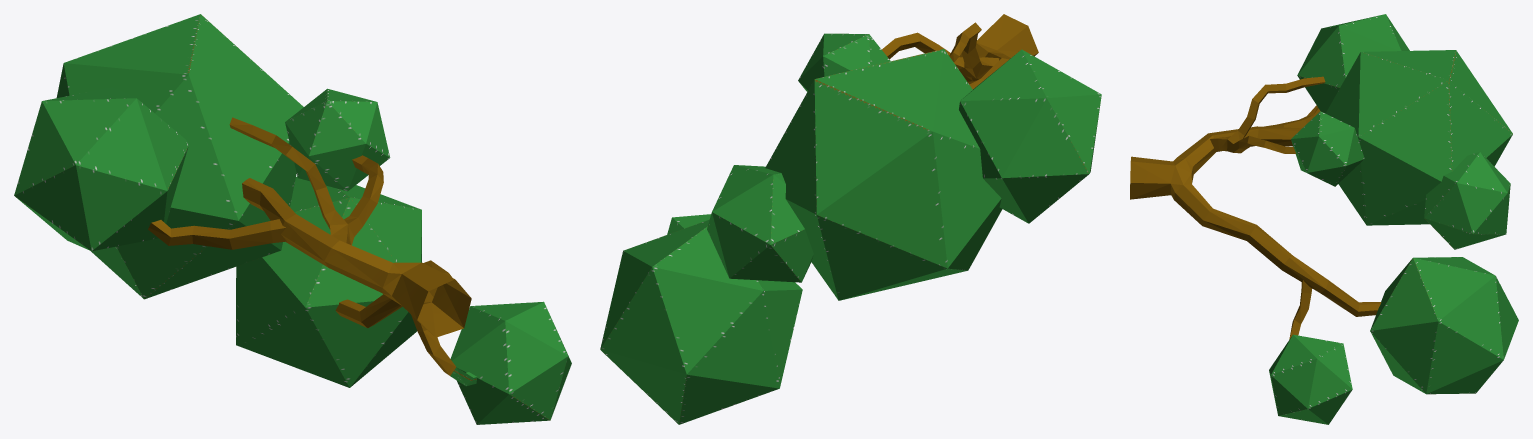
Rendered from Tree_lp_11@tree.002.obj.
3 renders of one model, left to right at view 1: azimuth 30°, elevation 25°; view 2: azimuth 150°, elevation 25°; view 3: azimuth 270°, elevation 25°, orthographic. The views are drawn at different scales.
Parts seen in each view (by area): view 1: Tree_lp_11.002; view 2: Tree_lp_11.002; view 3: Tree_lp_11.002.
Boxes of the visible parts, bbox=[...] form: Tree_lp_11.002: bbox=[14, 14, 571, 424]; Tree_lp_11.002: bbox=[600, 14, 1101, 424]; Tree_lp_11.002: bbox=[1130, 14, 1518, 424].
Size of the model in its own units: 27.98 by 20.8 by 26.54.
1 material, 1 textured.
